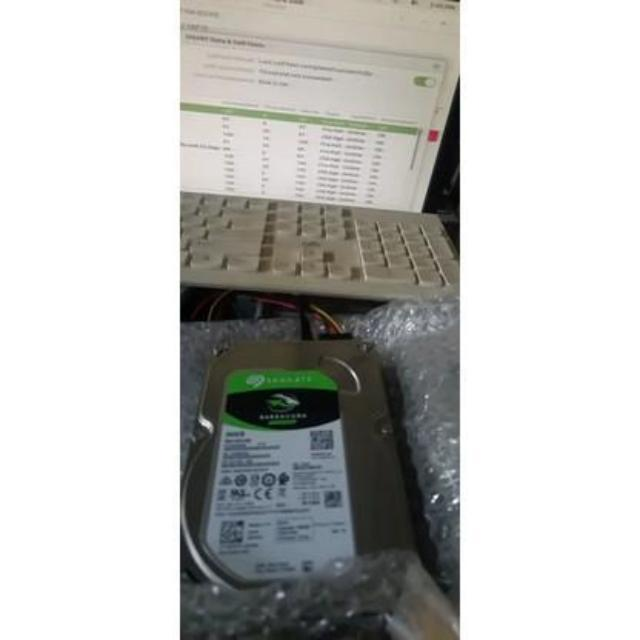DISK: (189, 323, 426, 605)
